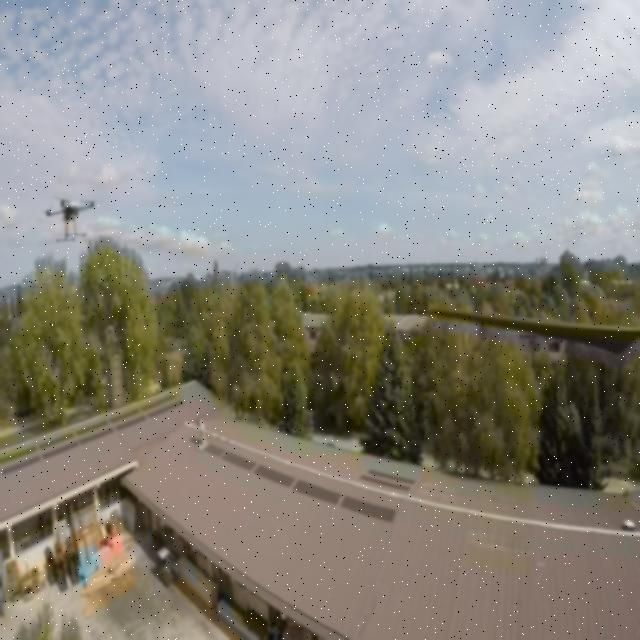UAV: (39, 188, 103, 244)
